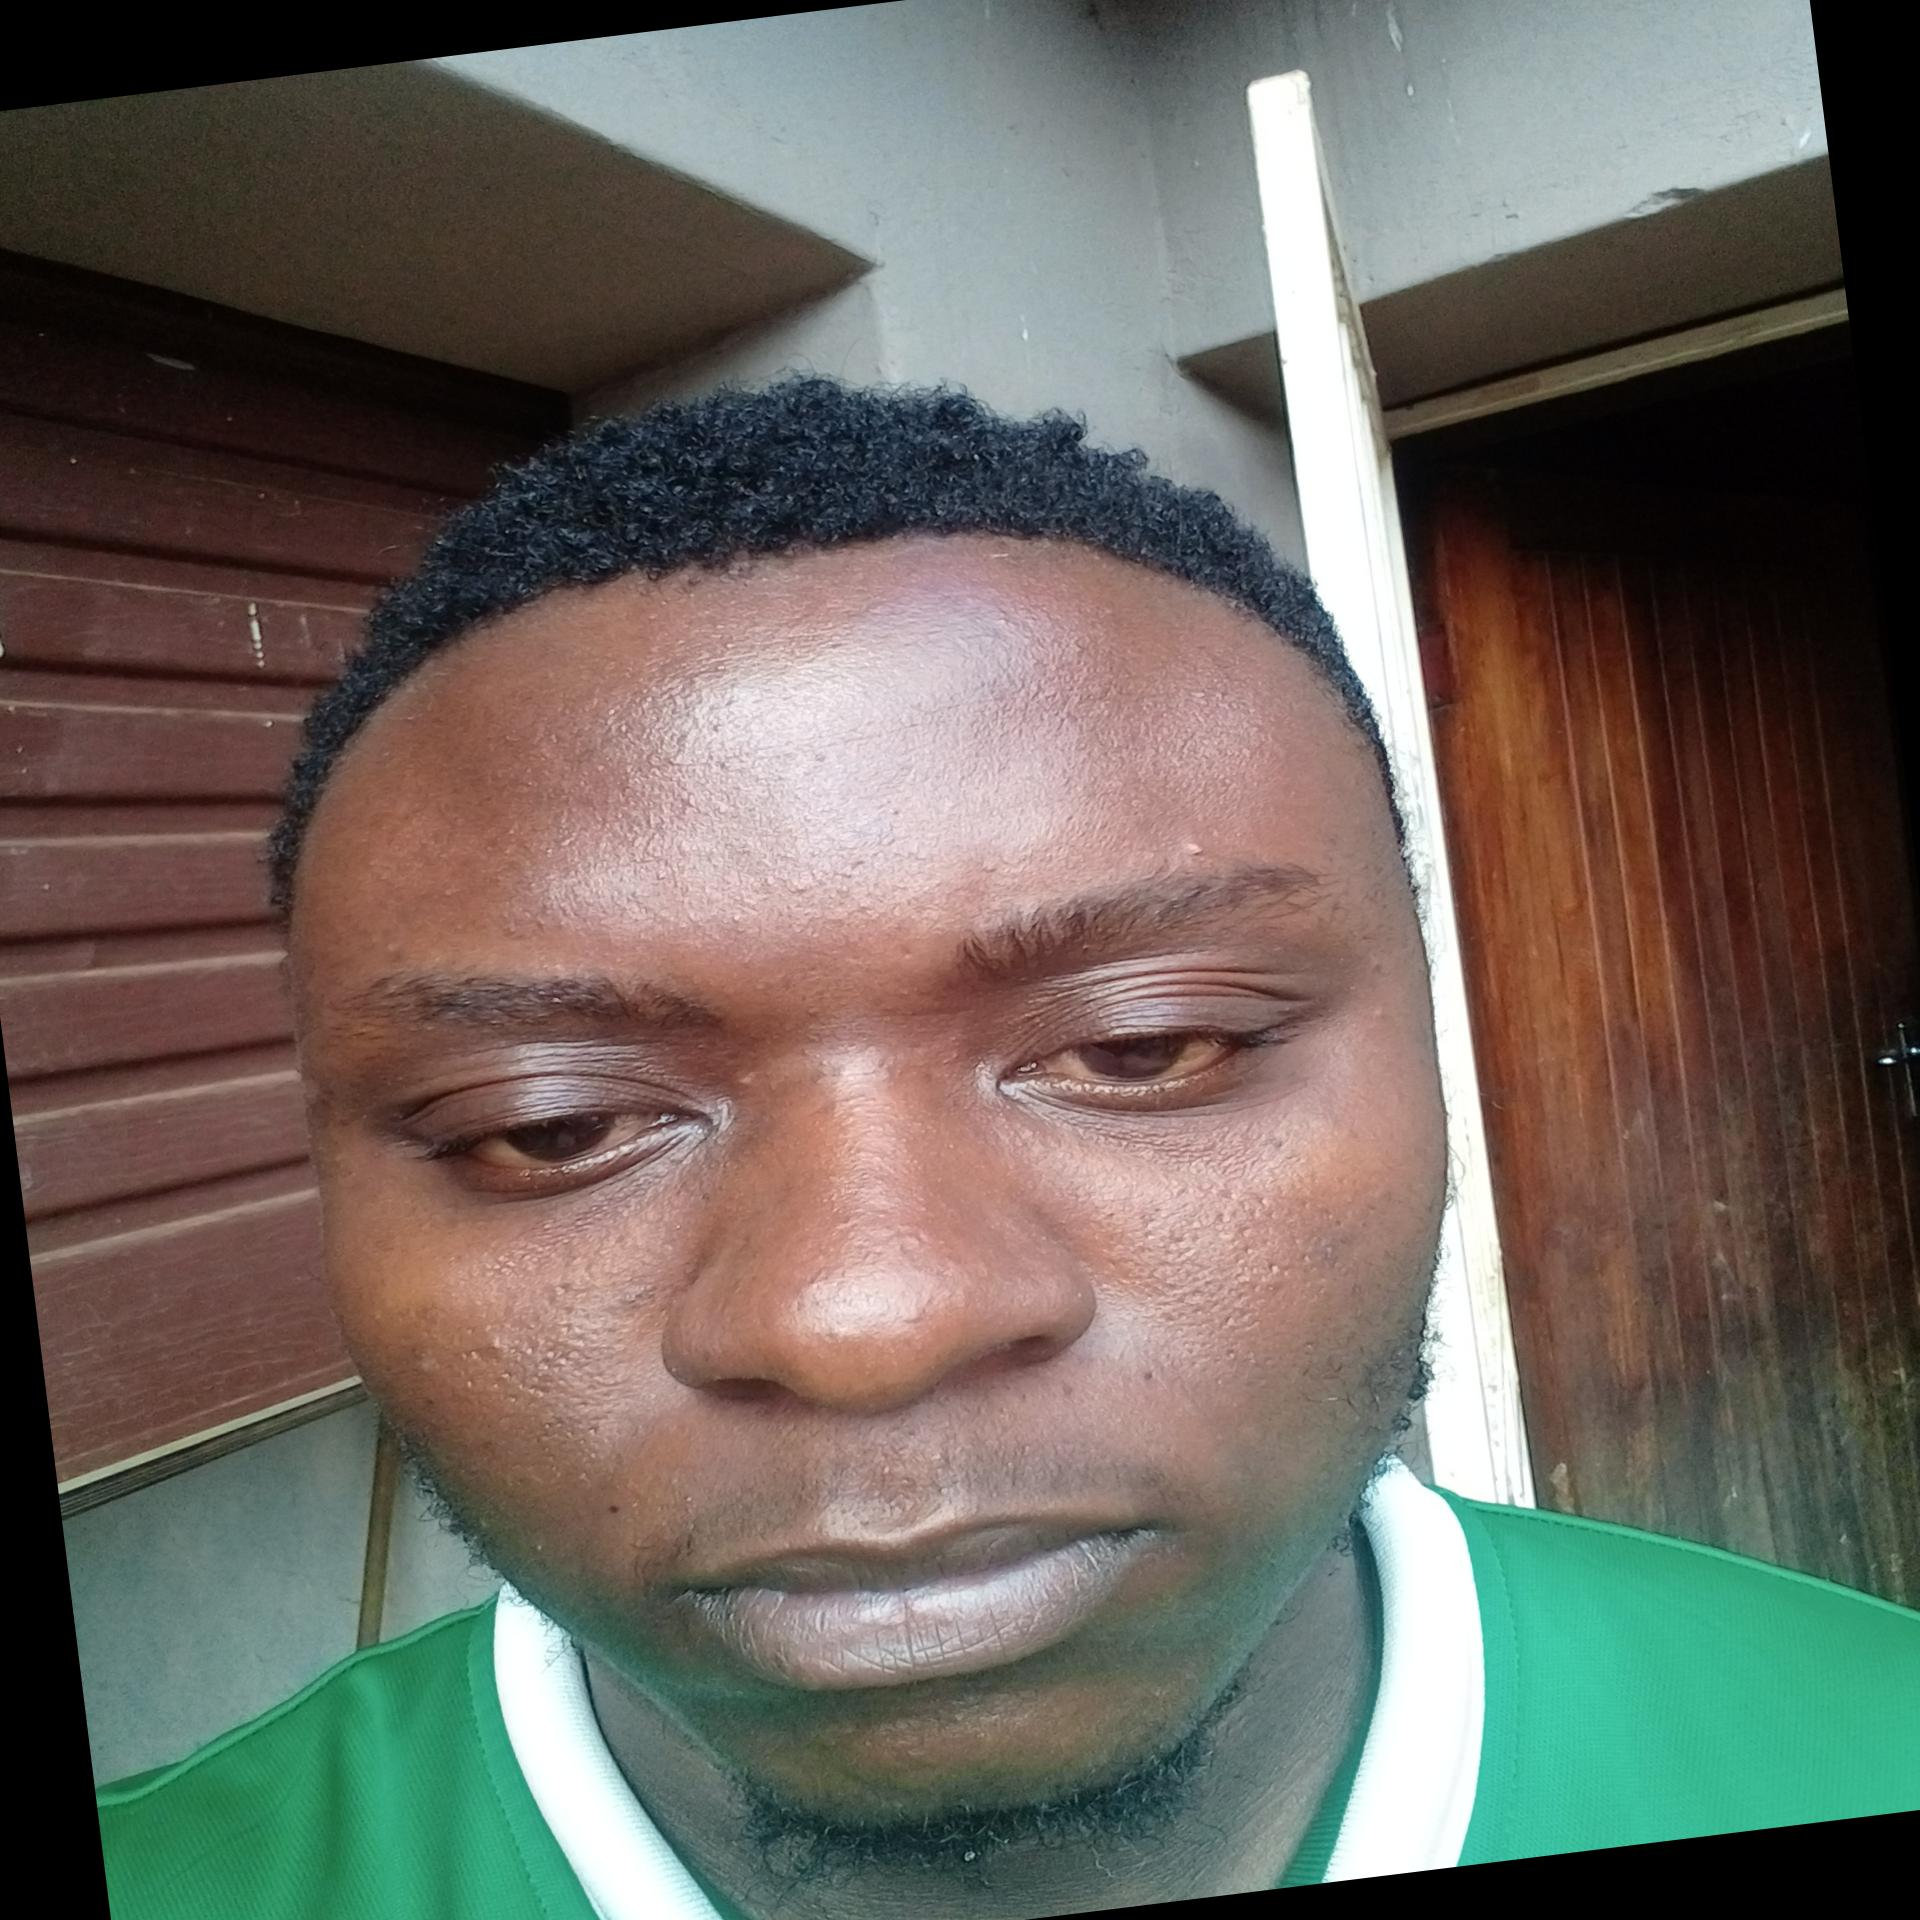Acne: (1178, 833, 1217, 862), (728, 1062, 761, 1094), (974, 856, 1006, 877), (1368, 999, 1394, 1022), (1366, 958, 1385, 974)
Englarged Pores: (454, 1241, 661, 1484), (1109, 1173, 1343, 1375)
Wrinkles: (658, 689, 1030, 779), (812, 999, 974, 1034), (809, 1051, 951, 1085)
